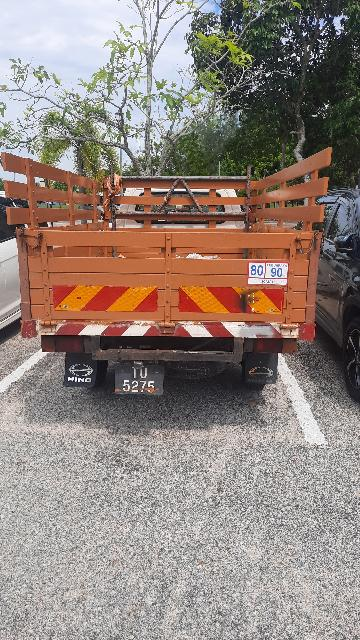License_Plate: (110, 364, 171, 400)
lorry: (2, 136, 339, 404)
